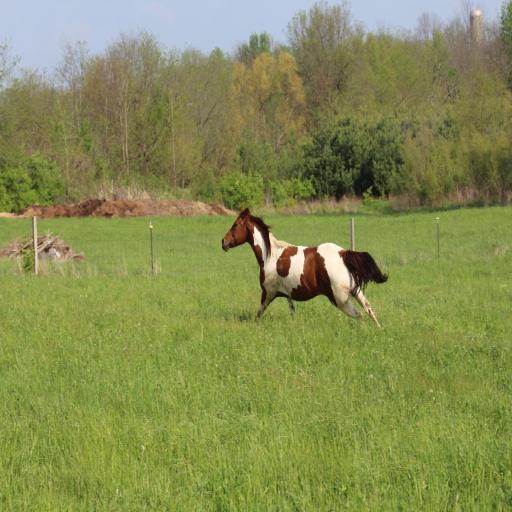horse: (220, 202, 390, 331)
